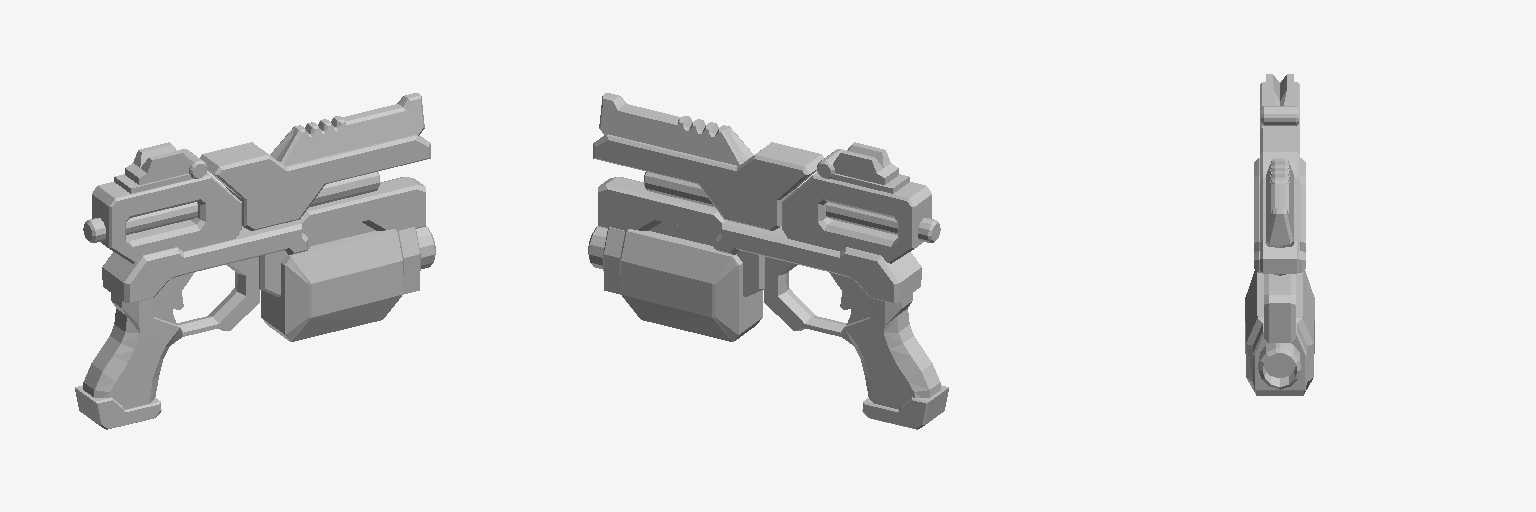
Rendered from gun.obj.
3 views of the same model, side by side, from view 1: azimuth 30°, elevation 25°; view 2: azimuth 150°, elevation 25°; view 3: azimuth 270°, elevation 25° (orthographic).
Parts seen in each view (by area): view 1: BaseMesh; view 2: BaseMesh; view 3: BaseMesh.
Boxes of the visible parts, x1=… form: BaseMesh: x1=75, y1=93, x2=435, y2=429; BaseMesh: x1=588, y1=93, x2=948, y2=429; BaseMesh: x1=1245, y1=74, x2=1314, y2=395.
Bounding box in the file's own units: 6.83 × 4.87 × 1.21.